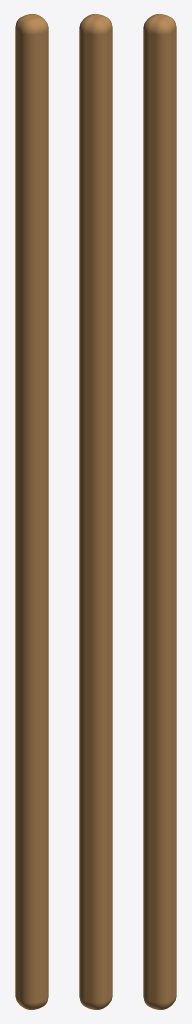
Rendered from finish-peg--6.5.glb.
3 views of the same model, side by side, from view 1: azimuth 30°, elevation 25°; view 2: azimuth 150°, elevation 25°; view 3: azimuth 330°, elevation 25° (orthographic).
Parts seen in each view (by area): view 1: wood; view 2: wood; view 3: wood.
Part boxes in pixels (x1=…): wood: x1=15, y1=14, x2=48, y2=1009; wood: x1=79, y1=14, x2=112, y2=1009; wood: x1=143, y1=14, x2=176, y2=1009.
Bounding box in the file's own units: 0.2 × 7 × 0.2.
